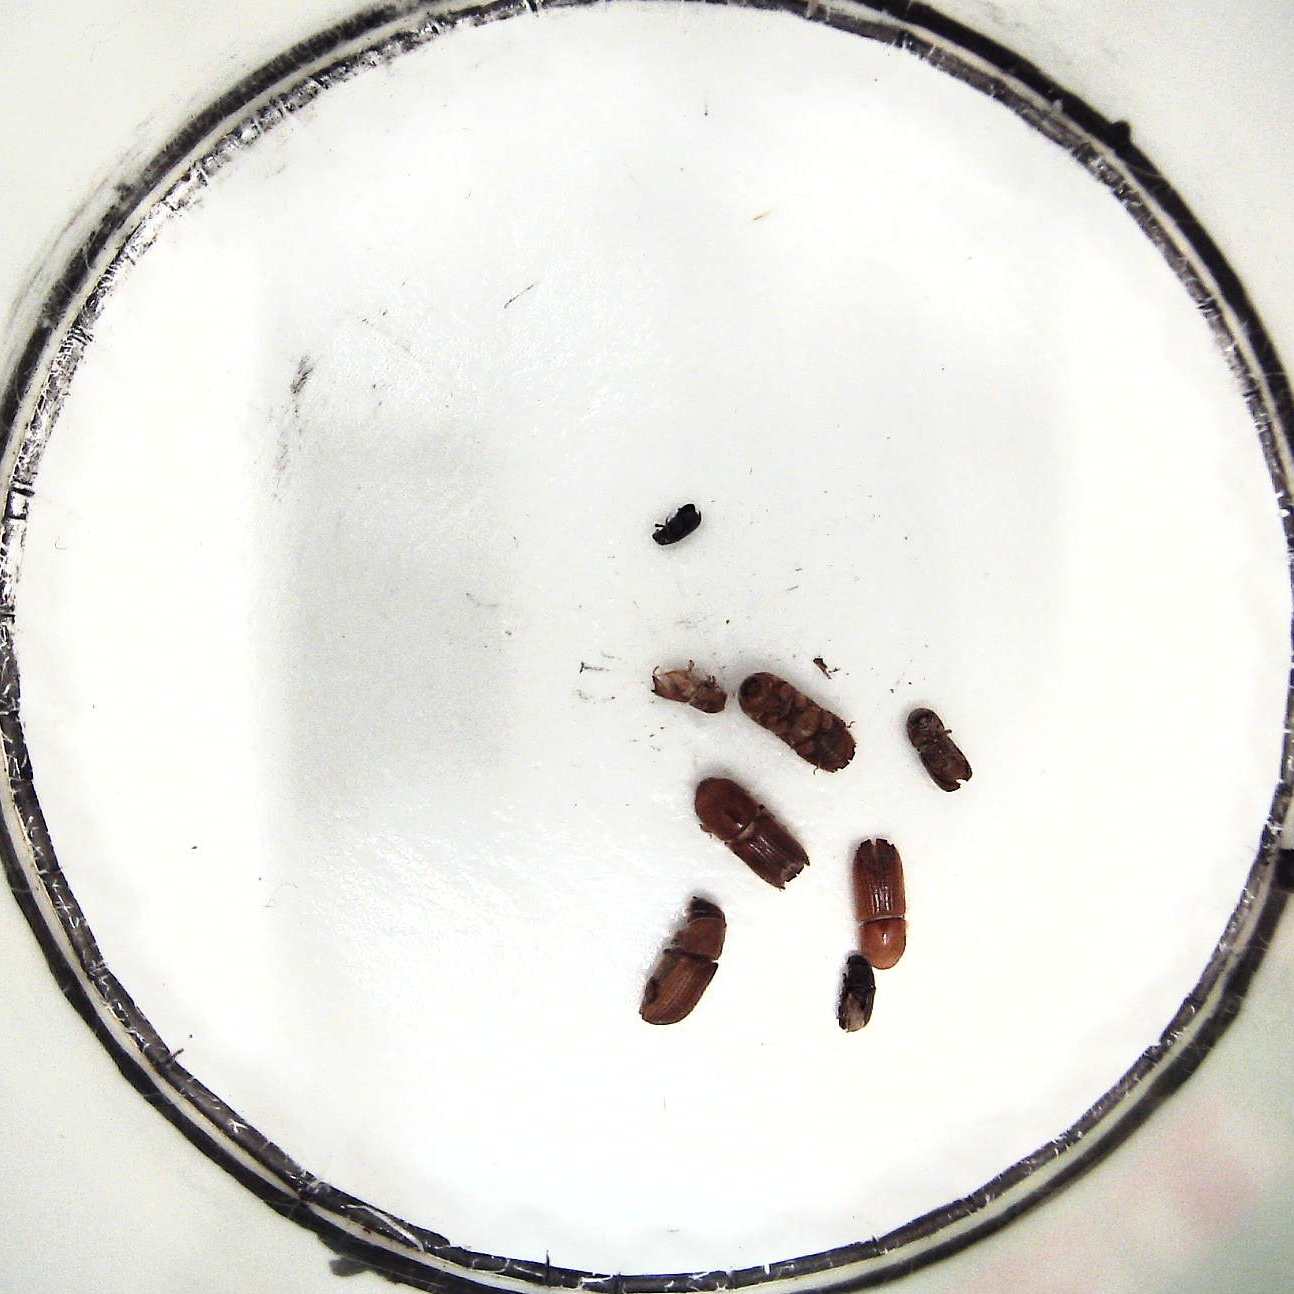Boerner: (696, 777, 812, 890), (736, 672, 859, 776), (853, 838, 908, 968)
Leconte: (632, 897, 730, 1029)
Linnaeus: (905, 707, 974, 792)
acuminatus: (651, 656, 729, 713)
armandi: (833, 953, 878, 1032)
coleoptera: (651, 501, 703, 547)
